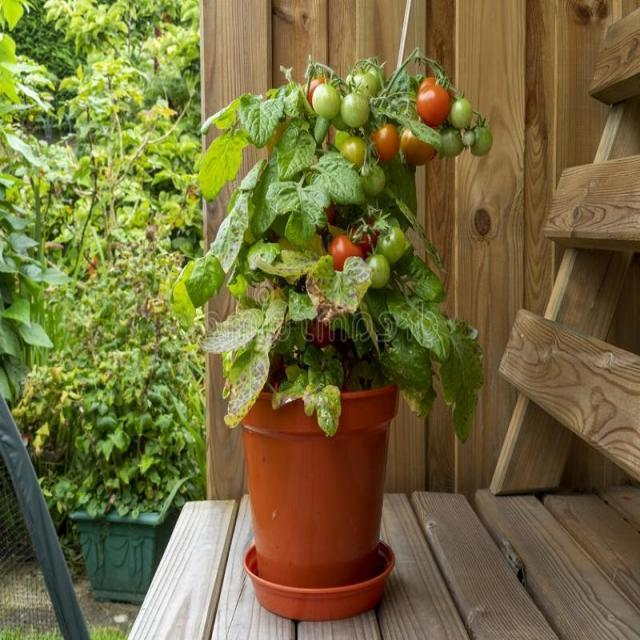tomato: (170, 49, 493, 441)
